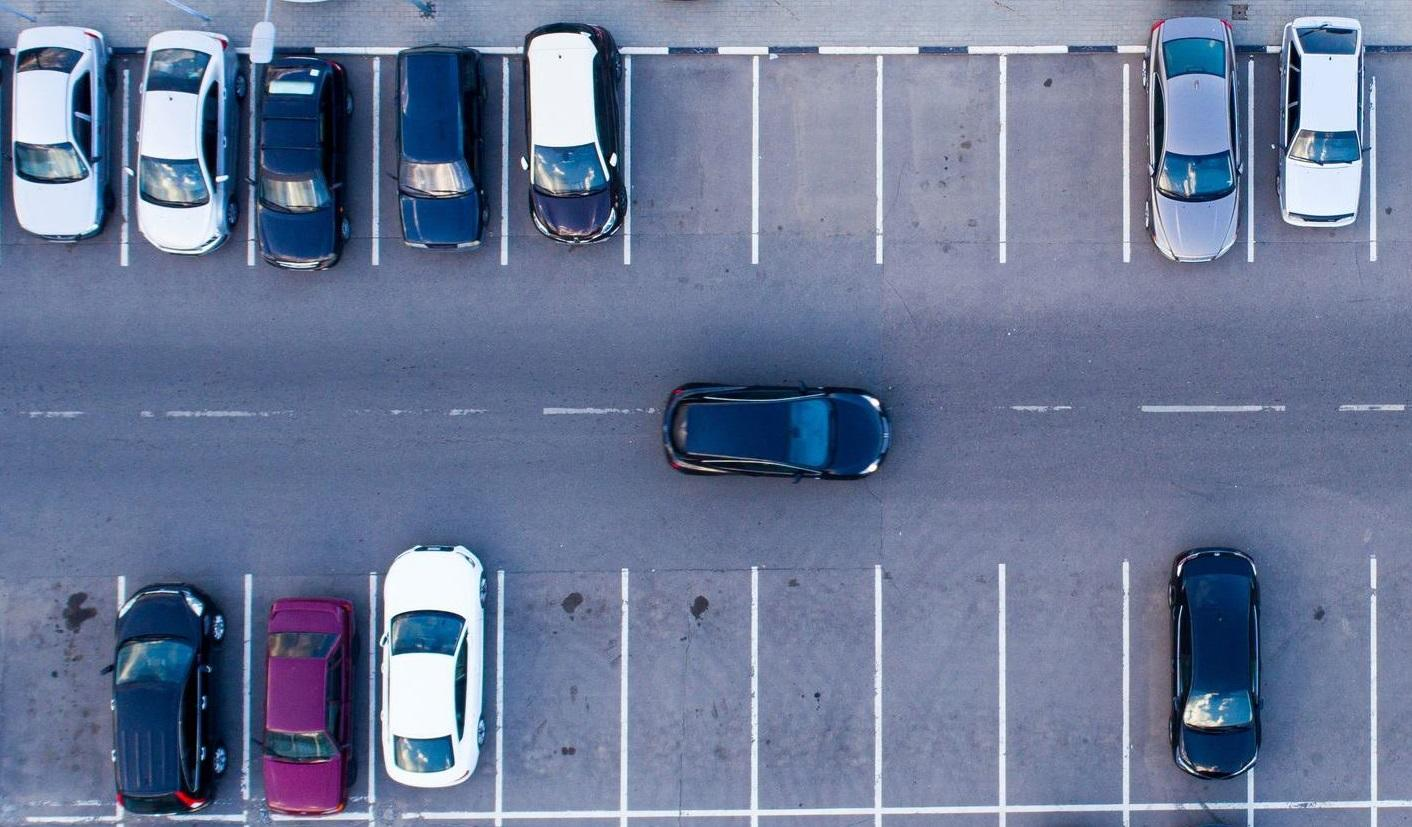occupied: (371, 574, 501, 816), (245, 575, 374, 818), (120, 578, 249, 819), (1126, 564, 1251, 807), (376, 51, 506, 263), (124, 50, 253, 262), (251, 51, 377, 263), (1126, 49, 1251, 259), (505, 51, 628, 263), (1251, 49, 1374, 259)
vacant: (624, 569, 755, 815), (499, 572, 625, 815), (754, 568, 879, 812), (878, 566, 1002, 811), (1251, 561, 1375, 805), (1003, 564, 1126, 808), (627, 51, 756, 262), (755, 51, 880, 262), (879, 51, 1004, 261), (1004, 49, 1126, 259)
